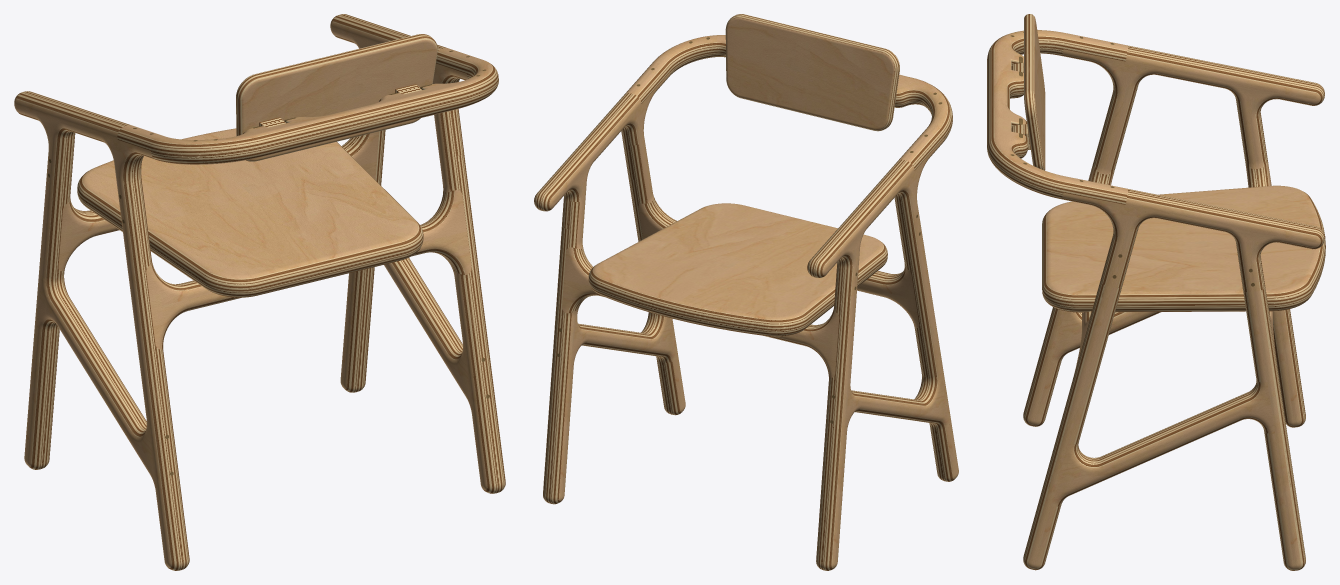
The model's file is armchair.glb.
The picture shows the model from 3 angles, left to right: view 1: azimuth 30°, elevation 25°; view 2: azimuth 150°, elevation 25°; view 3: azimuth 270°, elevation 25°; orthographic projection. The views are drawn at different scales.
Visible parts, largest first — view 1: Gazelle_Armchair; view 2: Gazelle_Armchair; view 3: Gazelle_Armchair.
Boxes of the visible parts, left/top/right/bottom form: Gazelle_Armchair: left=14, top=14, right=505, bottom=570; Gazelle_Armchair: left=534, top=14, right=958, bottom=570; Gazelle_Armchair: left=987, top=14, right=1325, bottom=570.
Size of the model in its own units: 0.58 by 0.7878 by 0.5435.
3 materials, 2 textured.
